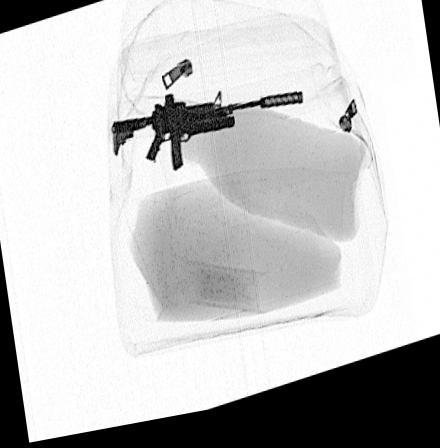Gun: (113, 96, 303, 177)
